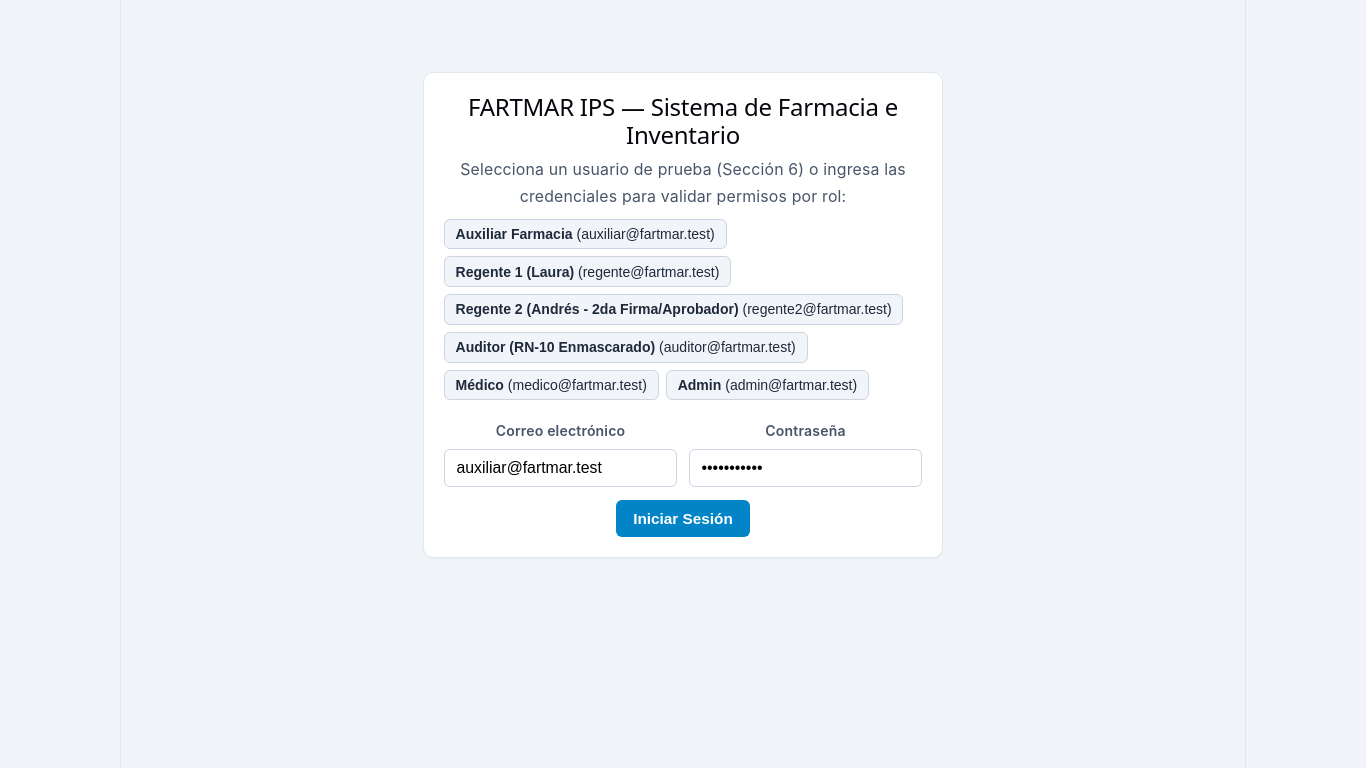
Test: FARTMAR IPS Frontend SPA › autocompleta el correo del rol seleccionado al hacer clic en un chip de prueba
The width and height of the screenshot is (1366, 768).
What coordinates should you click on to do the following:
click the text "Auditor (RN-10 Enmascarado)"
I would click on:
 (555, 347)
Its box is [456, 339, 655, 355].
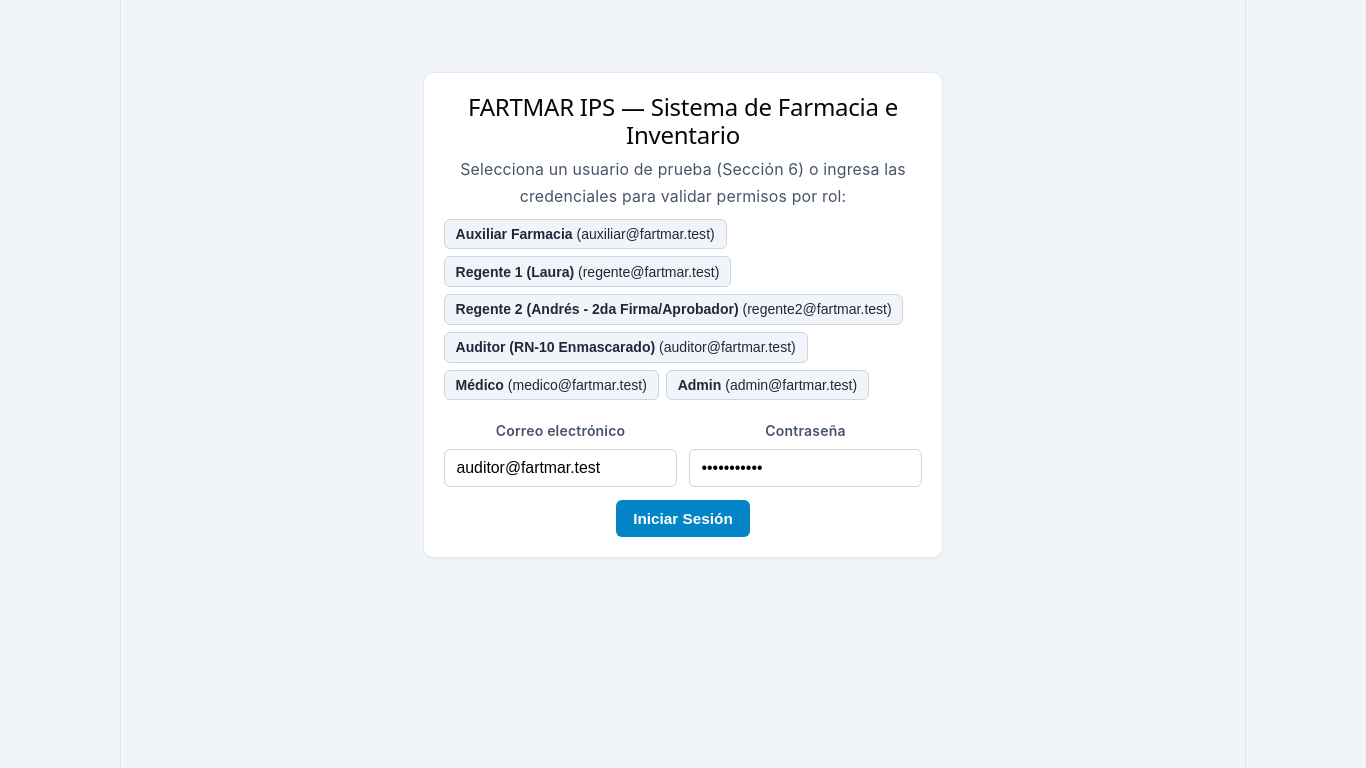
Expected: the field showing "auditor@fartmar.test" is shown, [444, 449, 677, 487]
